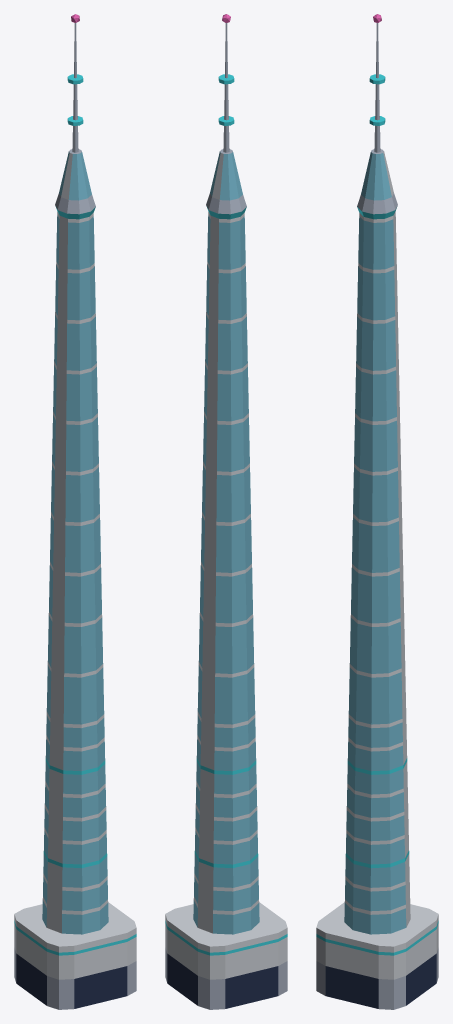
The model's file is city-tower-4.glb.
The picture shows the model from 3 angles, left to right: view 1: azimuth 30°, elevation 25°; view 2: azimuth 210°, elevation 25°; view 3: azimuth 330°, elevation 25°; orthographic projection.
Visible parts, largest first — view 1: CityTower4; view 2: CityTower4; view 3: CityTower4.
Boxes of the visible parts, x1,y1,x2,y2 form: CityTower4: (14,14,136,1009); CityTower4: (165,14,287,1009); CityTower4: (316,14,438,1009).
Bounding box in the file's own units: 15.2 × 161 × 15.2.
